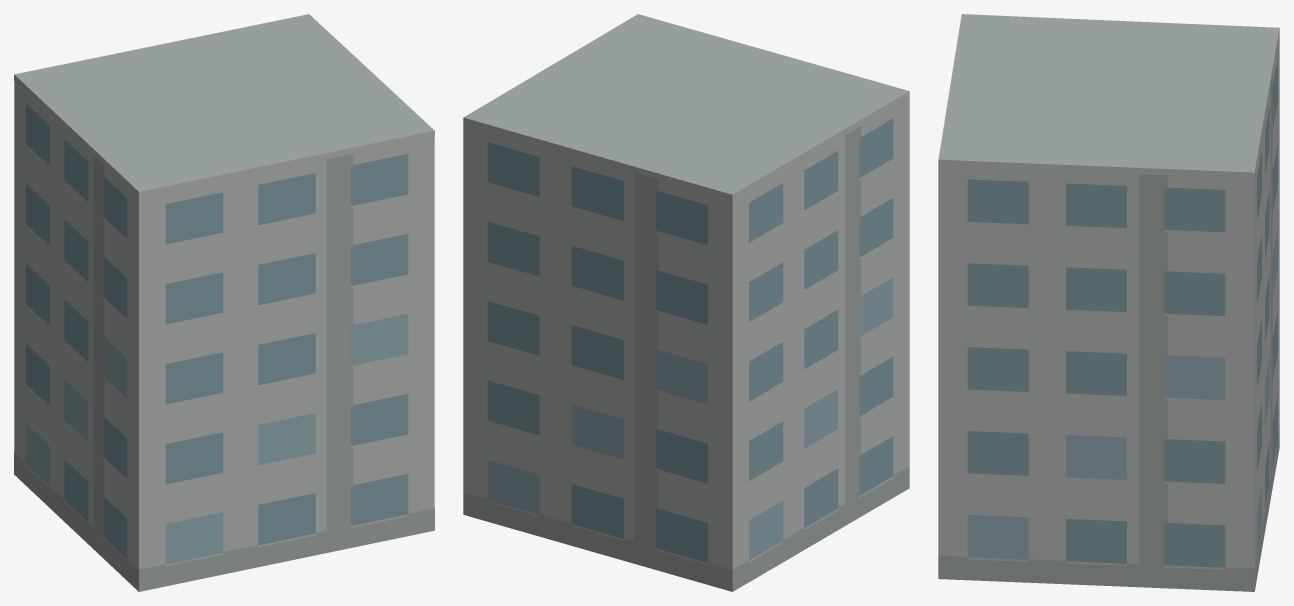
File: residential-f16b44ec-b3ef-4af7-89e3-68198e9ba7cd.glb
3 views of the same model, side by side, from view 1: azimuth 30°, elevation 25°; view 2: azimuth 150°, elevation 25°; view 3: azimuth 270°, elevation 25° (orthographic). The views are drawn at different scales.
Parts seen in each view (by area): view 1: residential-f16b44ec-b3ef-4af7-89e3-68198e9ba7cd.tmp; view 2: residential-f16b44ec-b3ef-4af7-89e3-68198e9ba7cd.tmp; view 3: residential-f16b44ec-b3ef-4af7-89e3-68198e9ba7cd.tmp.
Boxes of the visible parts, <box> form: residential-f16b44ec-b3ef-4af7-89e3-68198e9ba7cd.tmp: <box>14,14,434,591</box>; residential-f16b44ec-b3ef-4af7-89e3-68198e9ba7cd.tmp: <box>463,14,909,591</box>; residential-f16b44ec-b3ef-4af7-89e3-68198e9ba7cd.tmp: <box>938,14,1279,591</box>.
Size of the model in its own units: 12.37 by 15.25 by 11.26.
